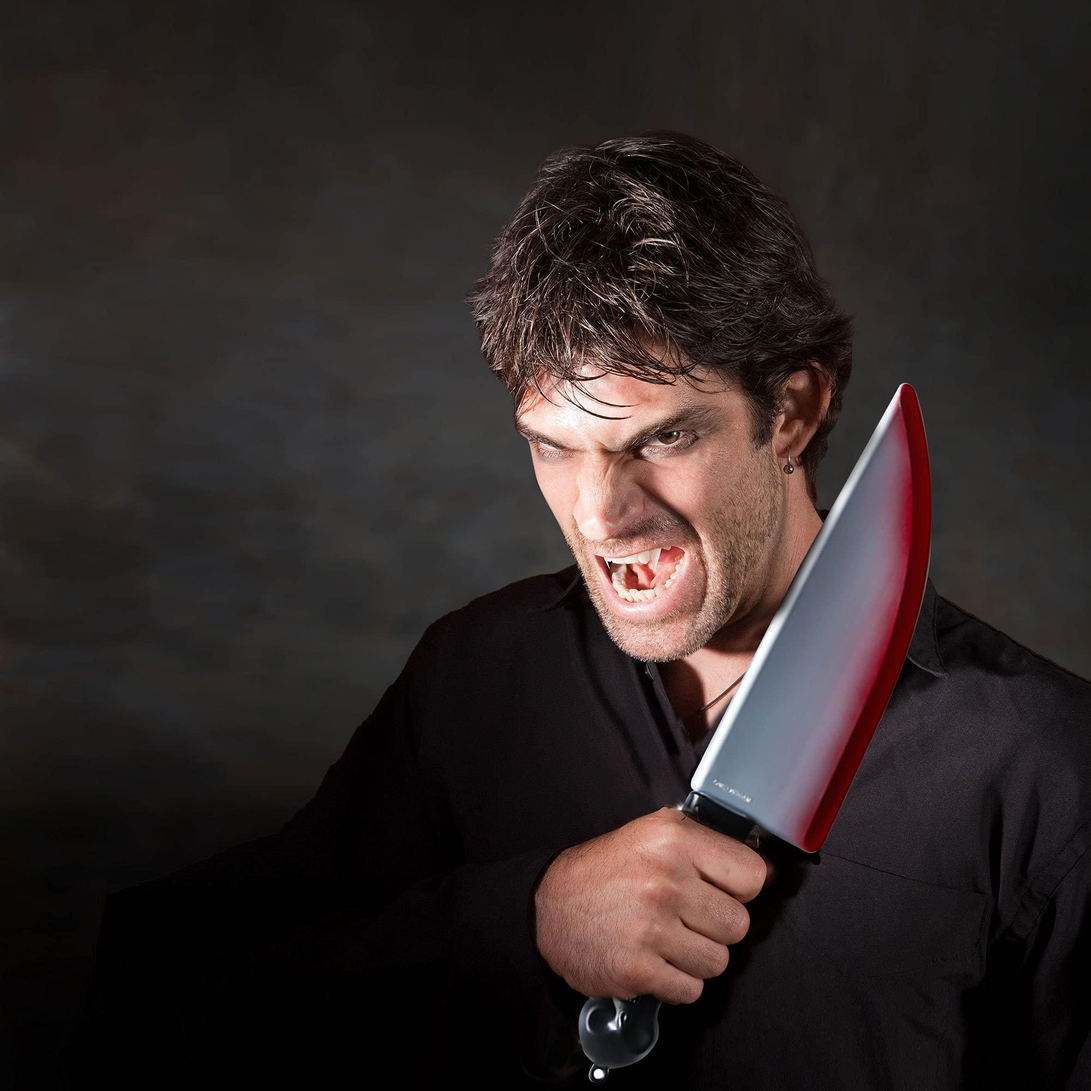Knife: (235, 128, 1091, 1091), (676, 383, 938, 836), (539, 809, 769, 1004)
